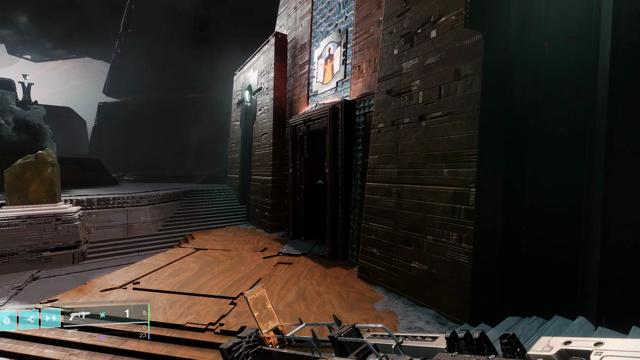worship: (317, 41, 341, 84)
